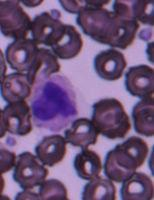N: (29, 71, 79, 131)
